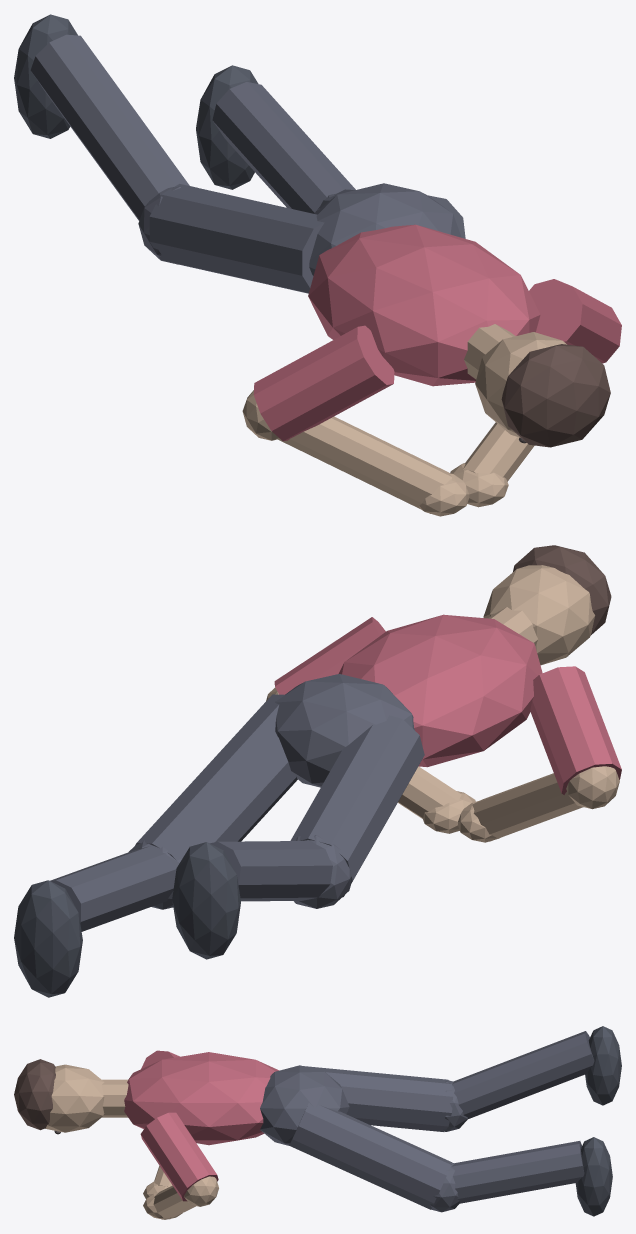
3 renders of one model, top to bottom at view 1: azimuth 30°, elevation 25°; view 2: azimuth 150°, elevation 25°; view 3: azimuth 270°, elevation 25°, orthographic. The views are drawn at different scales.
Visible parts, largest first — view 1: world; view 2: world; view 3: world.
Part boxes in pixels (x1,y1,x2,y2): world: (14,14,621,516); world: (14,545,621,997); world: (14,1026,621,1219).
Bounding box in the file's own units: 0.93 × 0.6213 × 2.07.
